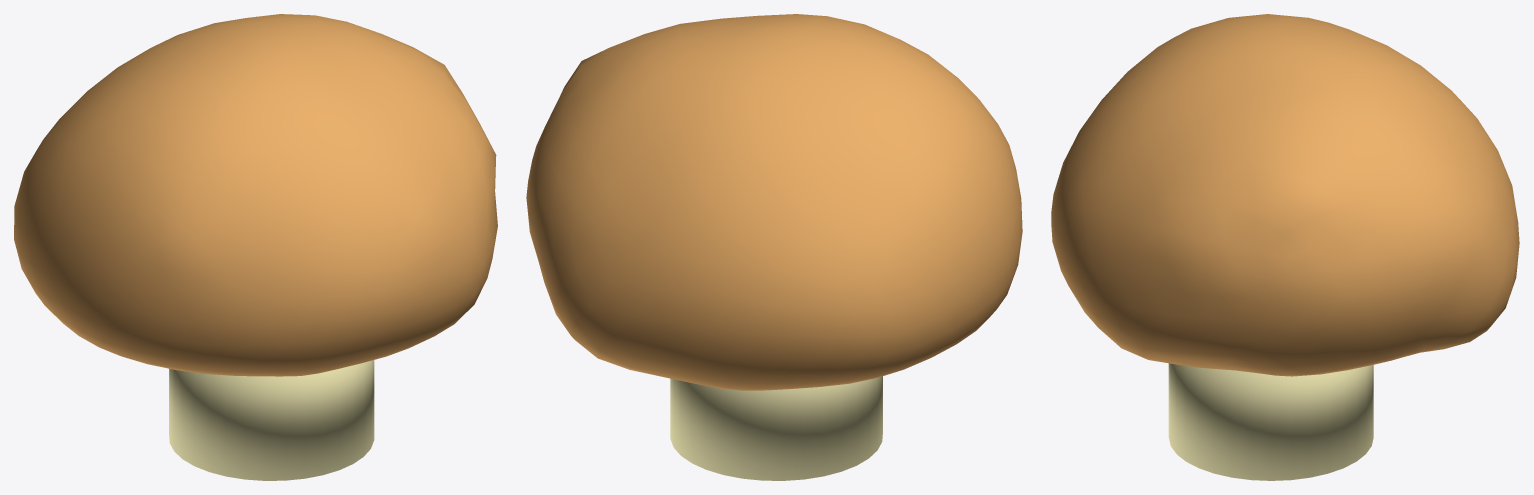
Rendered from MushroomModel.fbx.
The picture shows the model from 3 angles, left to right: view 1: azimuth 30°, elevation 25°; view 2: azimuth 150°, elevation 25°; view 3: azimuth 270°, elevation 25°; orthographic projection. The views are drawn at different scales.
Visible parts, largest first — view 1: Icosphere, Cylinder; view 2: Icosphere, Cylinder; view 3: Icosphere, Cylinder.
Part boxes in pixels (x1,y1,x2,y2): Icosphere: [14, 14, 497, 376]; Cylinder: [169, 360, 374, 480]; Icosphere: [526, 14, 1022, 390]; Cylinder: [670, 376, 882, 480]; Icosphere: [1051, 14, 1519, 376]; Cylinder: [1168, 363, 1373, 480].
Size of the model in its own units: 179 by 162 by 175.
